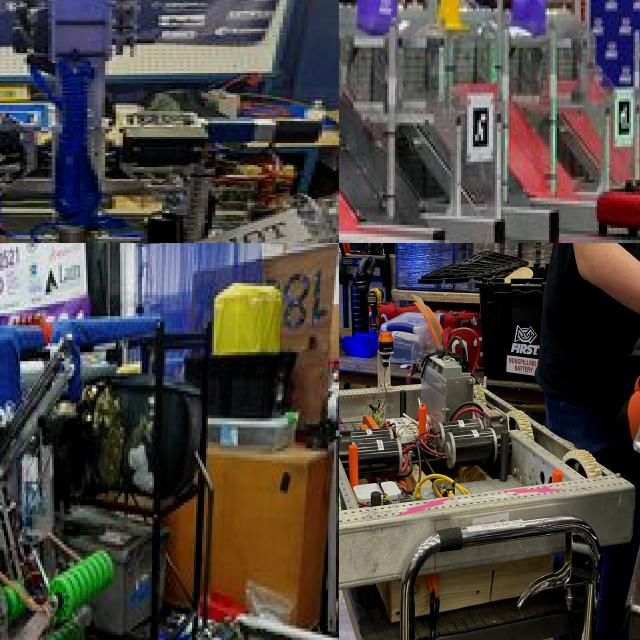FRC-Robots: (0, 0, 339, 243), (339, 343, 640, 585), (477, 0, 640, 240), (0, 312, 66, 640)
